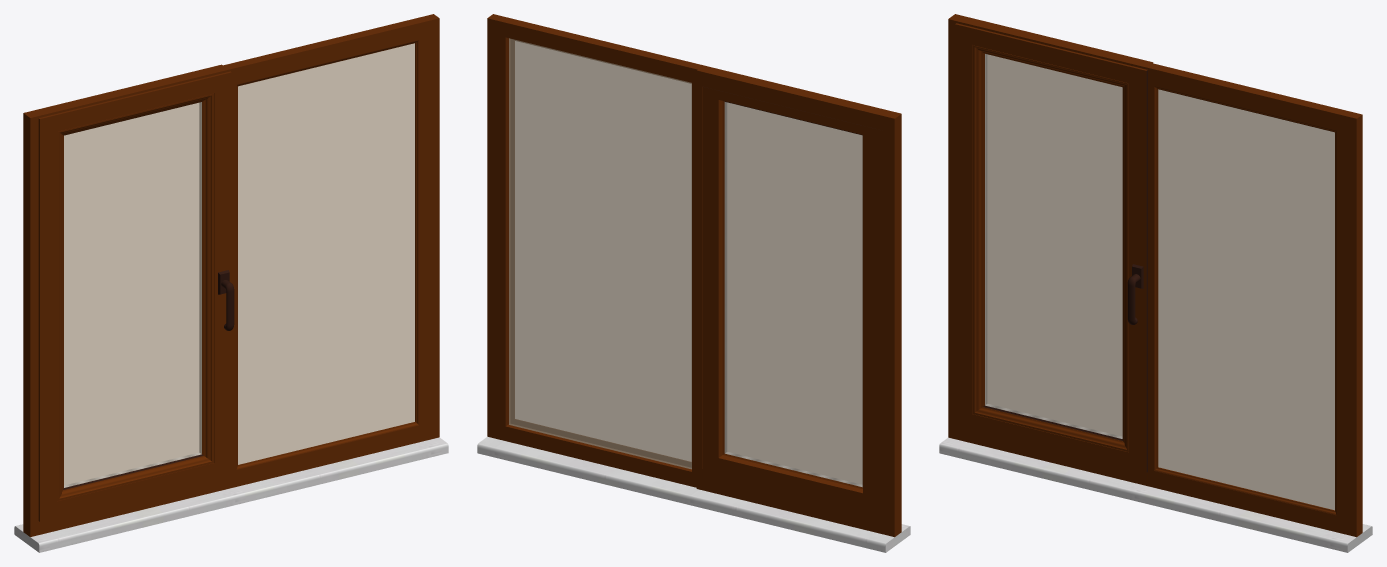
Rendered from window_2.glb.
3 views of the same model, side by side, from view 1: azimuth 30°, elevation 25°; view 2: azimuth 150°, elevation 25°; view 3: azimuth 330°, elevation 25° (orthographic).
Visible parts, largest first — view 1: root; view 2: root; view 3: root.
Part boxes in pixels (bbox=[...]): root: bbox=[14, 14, 448, 552]; root: bbox=[477, 14, 910, 552]; root: bbox=[939, 14, 1372, 552].
Bounding box in the file's own units: 1.4 × 1.4 × 0.15.
Materials: 6 (2 with a texture image).
